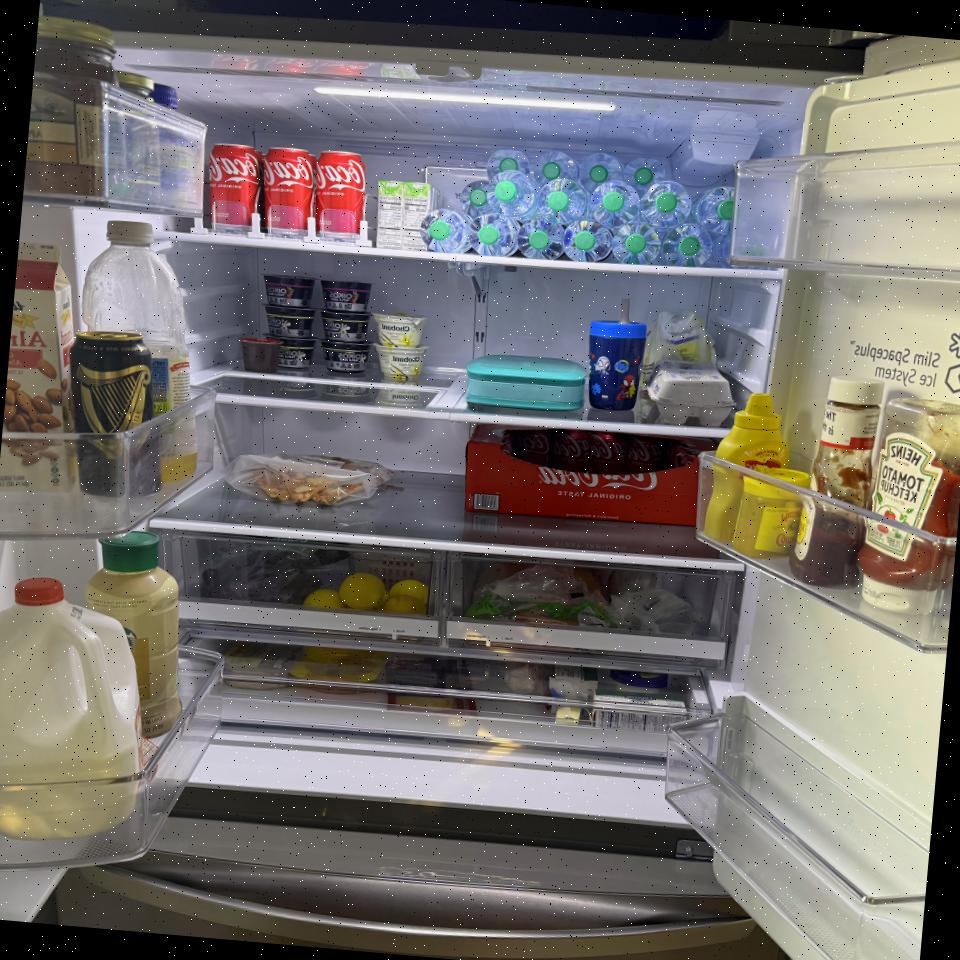Huevos: (646, 362, 738, 430)
Leche: (0, 573, 160, 847)
Limón: (339, 571, 387, 612), (380, 594, 426, 620), (387, 577, 428, 601), (301, 588, 341, 612)
Mantequilla: (590, 686, 688, 736)
